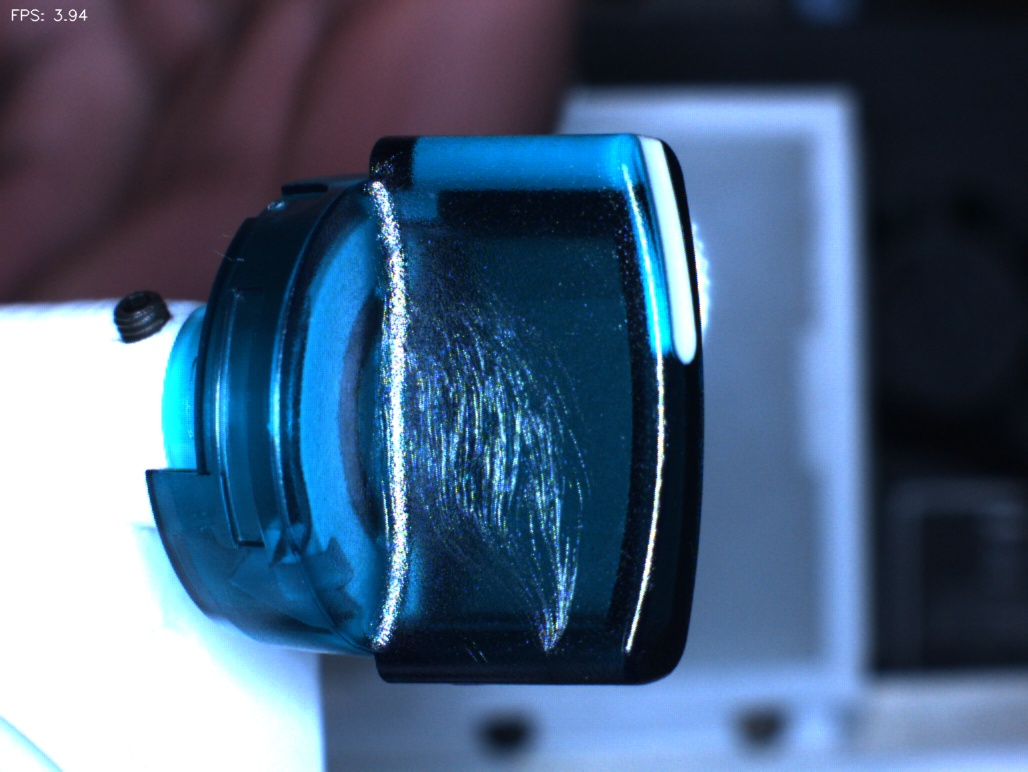Givrage: (399, 256, 620, 656)
